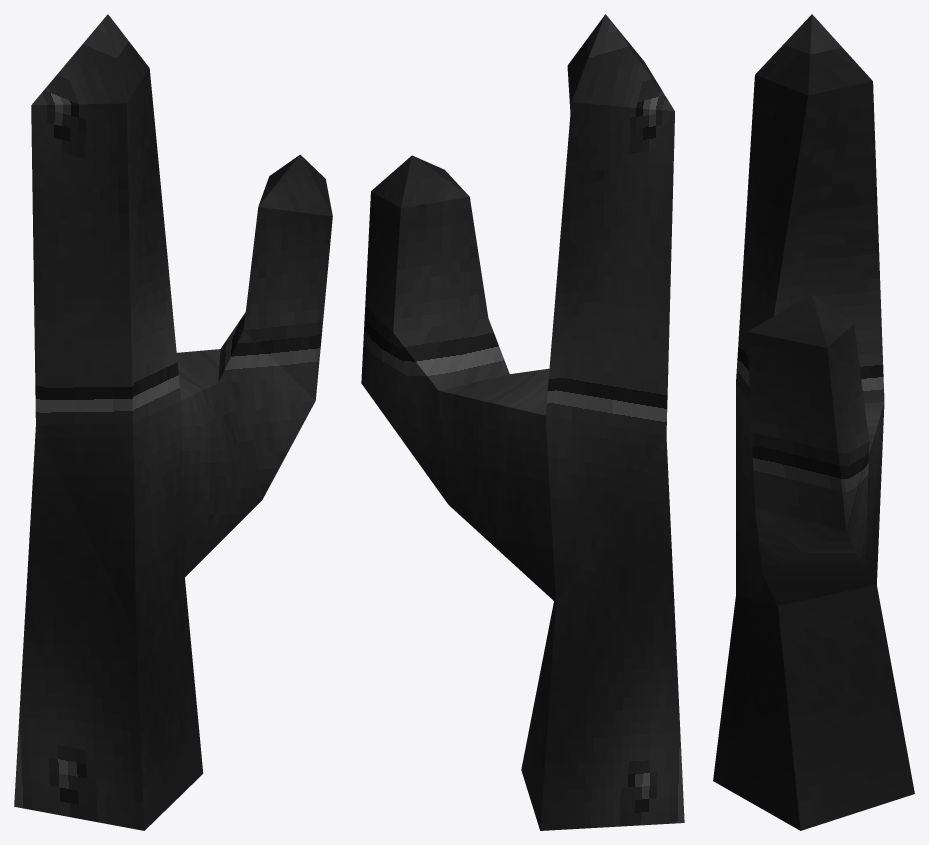
The picture shows the model from 3 angles, left to right: view 1: azimuth 30°, elevation 25°; view 2: azimuth 150°, elevation 25°; view 3: azimuth 270°, elevation 25°; orthographic projection.
Parts seen in each view (by area): view 1: prim146-Cylinder01; view 2: prim146-Cylinder01; view 3: prim146-Cylinder01.
Part boxes in pixels (x1,y1,x2,y2): prim146-Cylinder01: (14, 14, 332, 830); prim146-Cylinder01: (361, 14, 684, 830); prim146-Cylinder01: (713, 14, 914, 830).
Bounding box in the file's own units: 94 × 224 × 53.
Materials: 1 (1 with a texture image).
